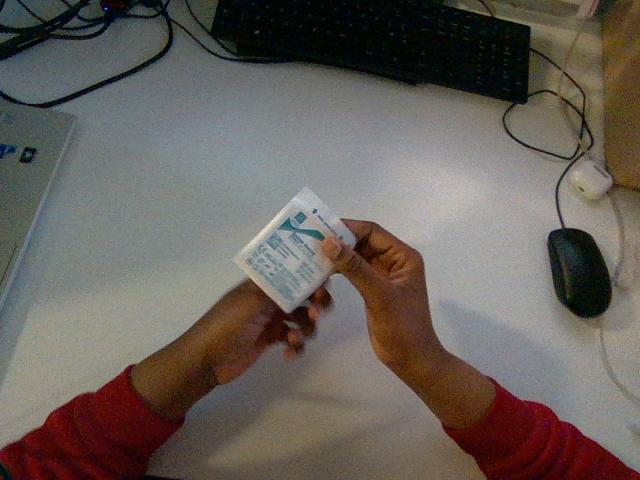gauze: (234, 187, 355, 312)
